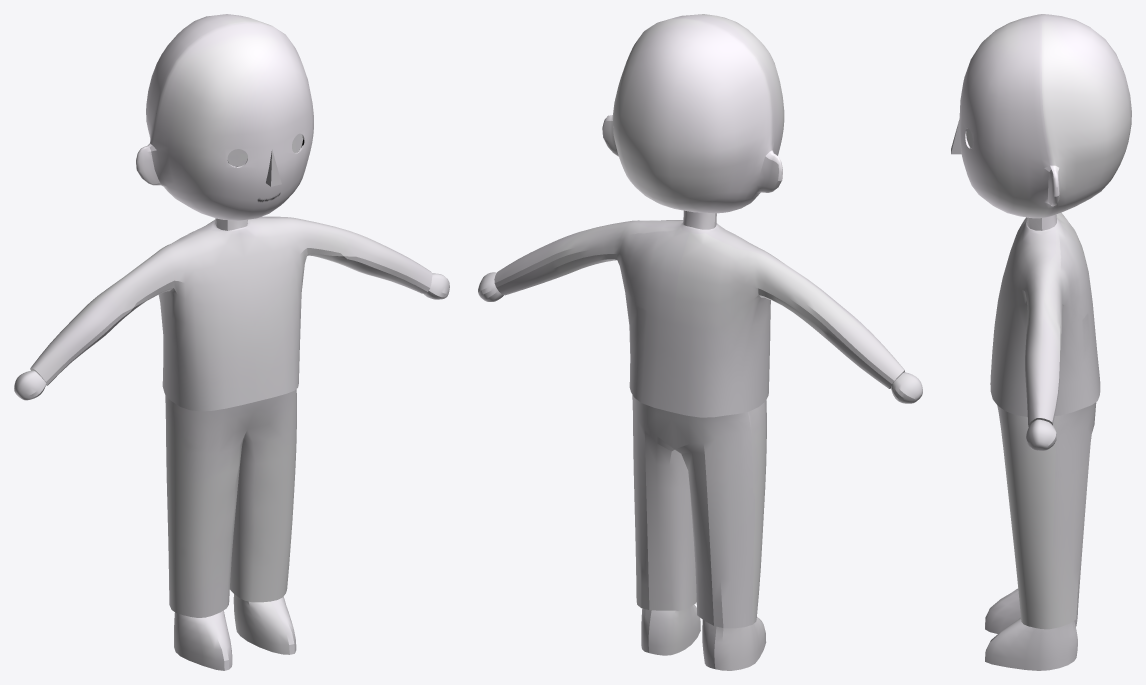
File: corpo1.fbx
3 renders of one model, left to right at view 1: azimuth 30°, elevation 25°; view 2: azimuth 150°, elevation 25°; view 3: azimuth 270°, elevation 25°, orthographic. The views are drawn at different scales.
Visible parts, largest first — view 1: corpo, corpo.001; view 2: corpo, corpo.001; view 3: corpo, corpo.001.
Part boxes in pixels (bbox=[...]): corpo: bbox=[14, 14, 449, 670]; corpo.001: bbox=[14, 14, 448, 670]; corpo: bbox=[478, 15, 922, 668]; corpo.001: bbox=[478, 14, 922, 670]; corpo: bbox=[951, 14, 1131, 670]; corpo.001: bbox=[951, 17, 1131, 650].
Size of the model in its own units: 363 by 496 by 131.
Materials: 2 (2 with a texture image).
